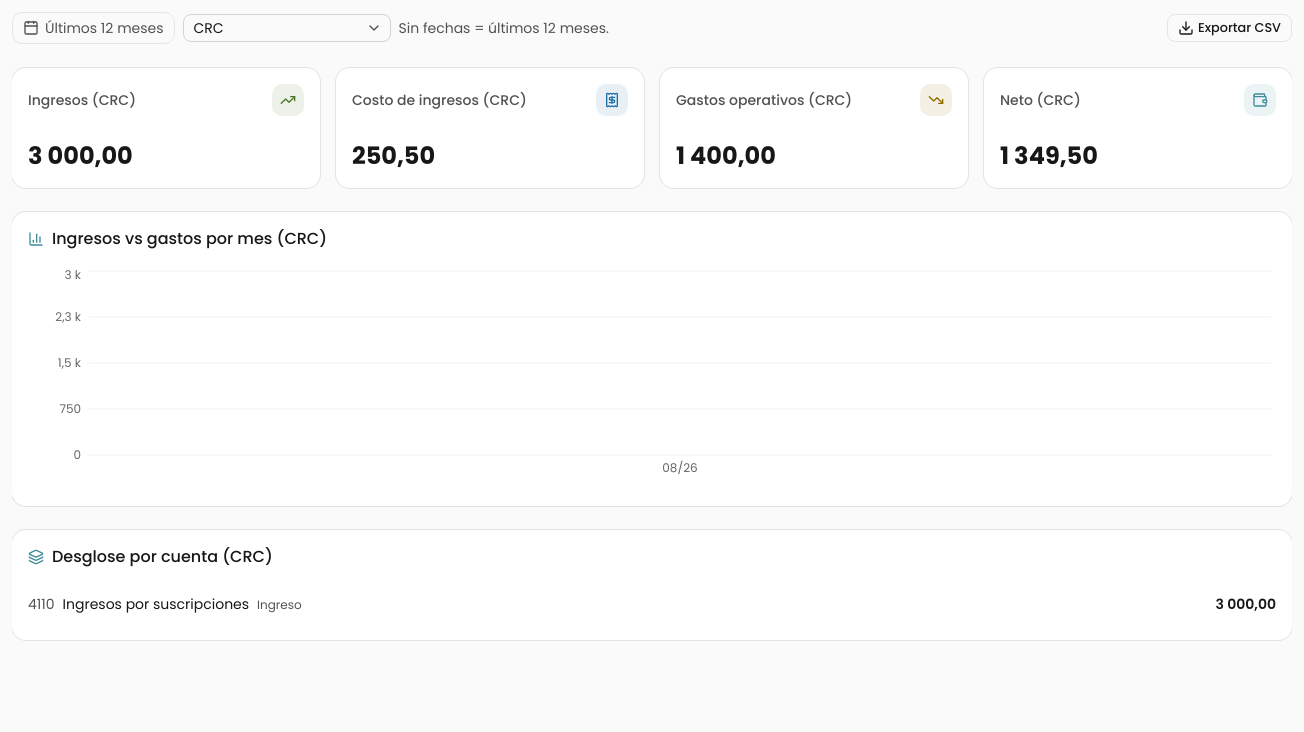
Scenario: PnlDashboard — consolidado a una moneda › sin tipo de cambio dice N/A, y no que el rango esté vacío
The image size is (1304, 732).
Click the dropdown named "Moneda" at (286, 28), box [182, 14, 390, 42]
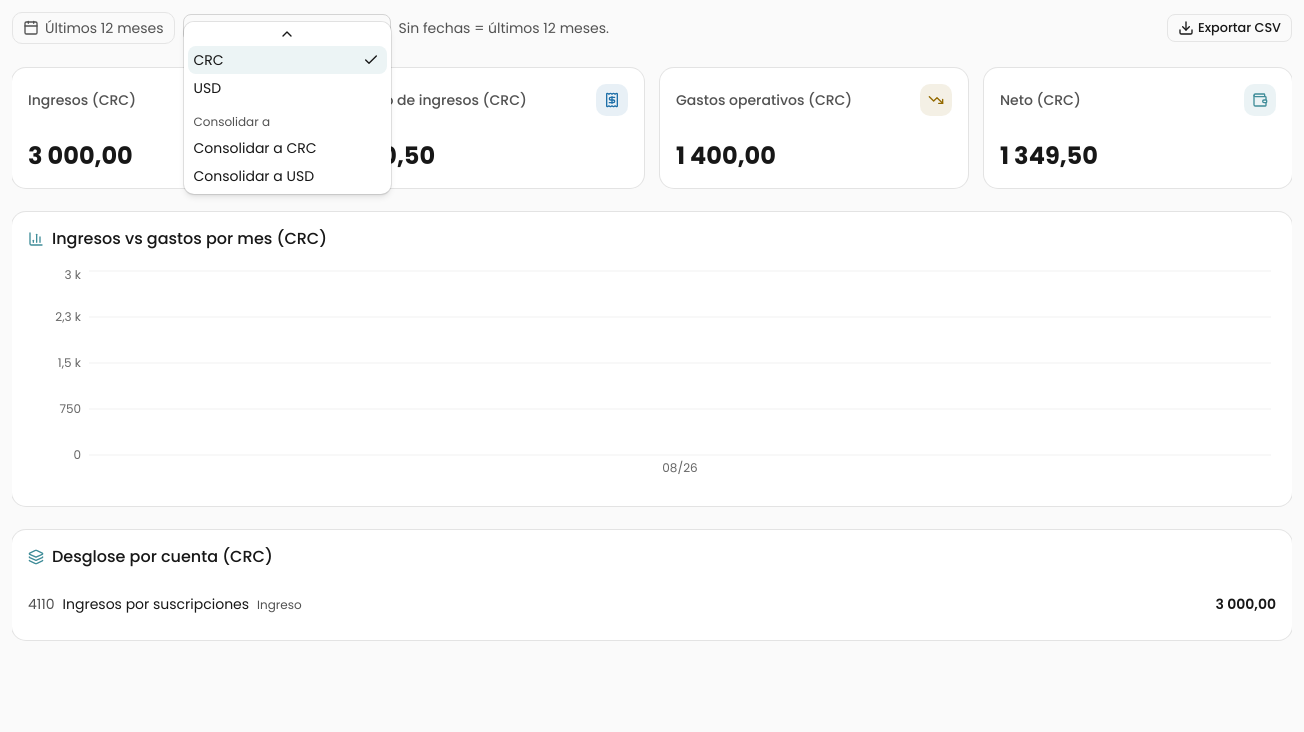
Click the option "Consolidar a USD" at (254, 176), box [194, 166, 314, 186]
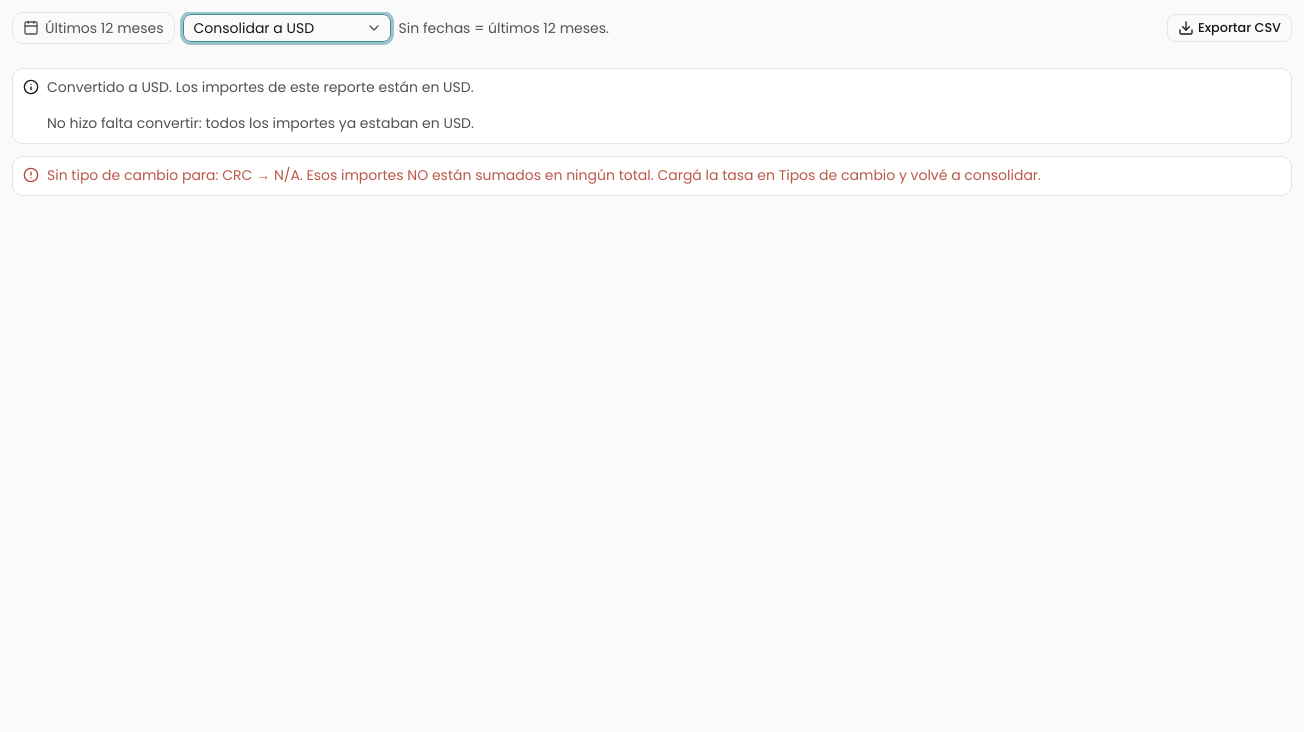
Expected: the text "Sin tipo de cambio para: CRC → N/A" is shown, [47, 165, 1041, 185]
